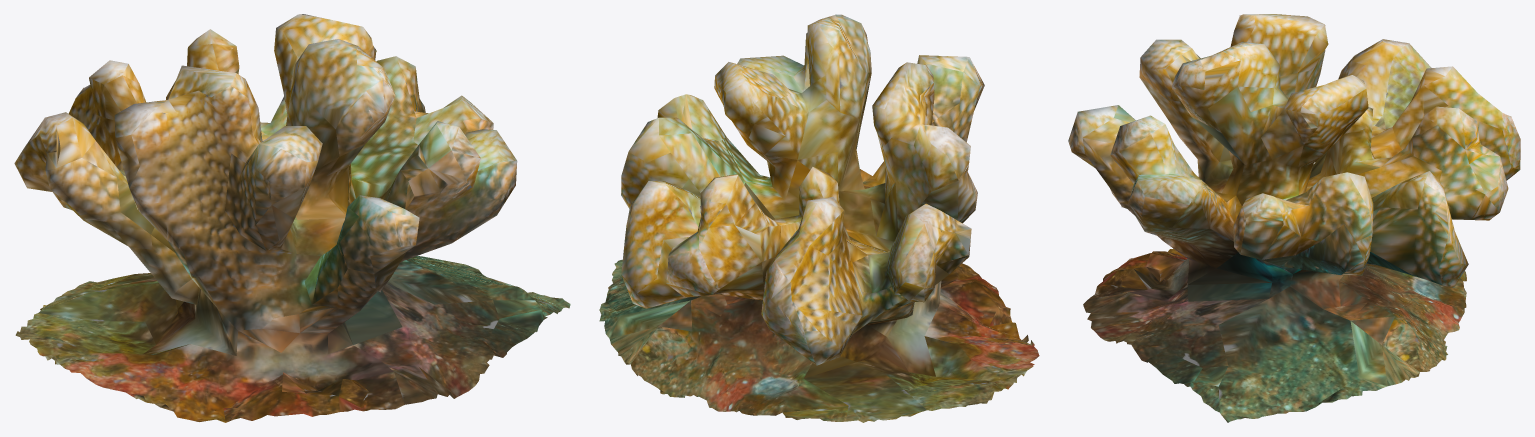
File: CoralFingers.obj
3 views of the same model, side by side, from view 1: azimuth 30°, elevation 25°; view 2: azimuth 150°, elevation 25°; view 3: azimuth 270°, elevation 25° (orthographic). The views are drawn at different scales.
Visible parts, largest first — view 1: Coral_4_SL_100pics-exported; view 2: Coral_4_SL_100pics-exported; view 3: Coral_4_SL_100pics-exported.
Part boxes in pixels (x1,y1,x2,y2): Coral_4_SL_100pics-exported: (14, 14, 570, 422); Coral_4_SL_100pics-exported: (599, 14, 1039, 422); Coral_4_SL_100pics-exported: (1068, 14, 1520, 422).
Size of the model in its own units: 520 by 341 by 483.
2 materials, 2 textured.
